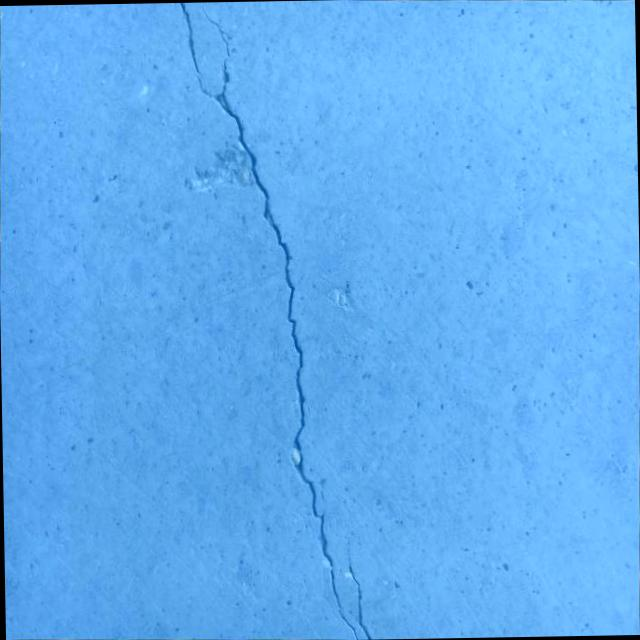crack: (163, 0, 370, 640), (326, 523, 376, 640)
